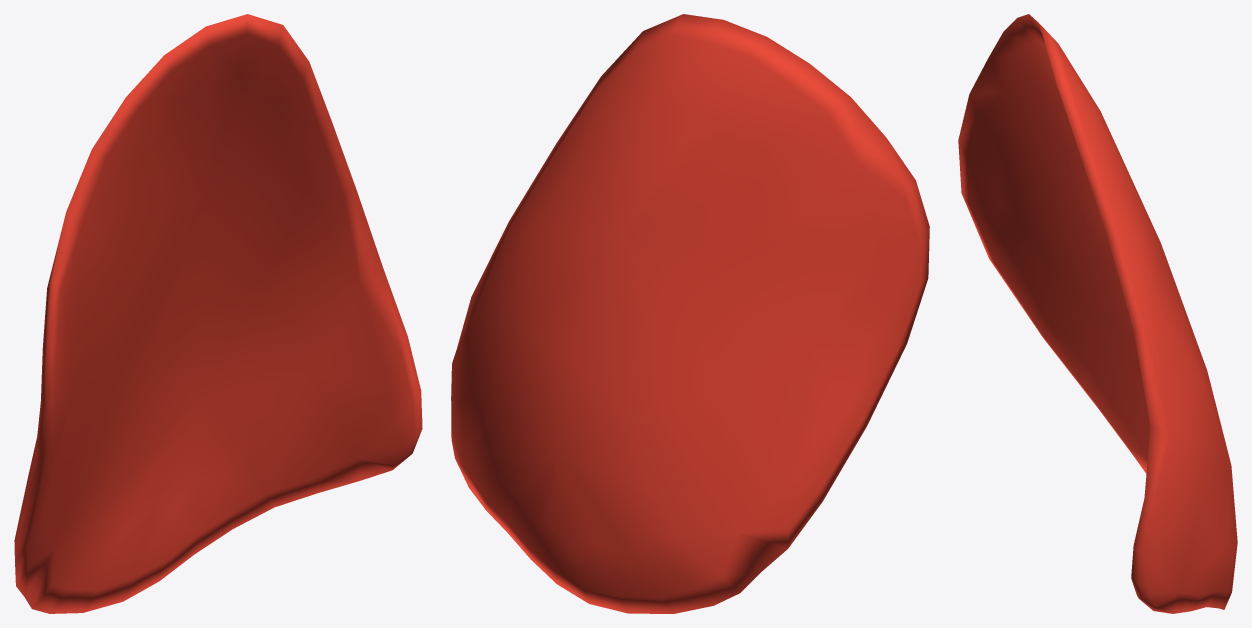
File: Inferior_gemellus_muscle-Ischiatic_insertion.l_Generated_Mesh_F.glb
The picture shows the model from 3 angles, left to right: view 1: azimuth 30°, elevation 25°; view 2: azimuth 150°, elevation 25°; view 3: azimuth 270°, elevation 25°; orthographic projection. The views are drawn at different scales.
Visible parts, largest first — view 1: Inferior_gemellus_muscle-Ischiatic_insertion.l_Generated_Mes; view 2: Inferior_gemellus_muscle-Ischiatic_insertion.l_Generated_Mes; view 3: Inferior_gemellus_muscle-Ischiatic_insertion.l_Generated_Mes.
Part boxes in pixels (box(x1,y1,x2,y2)): Inferior_gemellus_muscle-Ischiatic_insertion.l_Generated_Mes: box(14, 14, 422, 613); Inferior_gemellus_muscle-Ischiatic_insertion.l_Generated_Mes: box(451, 14, 929, 613); Inferior_gemellus_muscle-Ischiatic_insertion.l_Generated_Mes: box(958, 14, 1237, 613).
Size of the model in its own units: 0.0129 by 0.0169 by 0.00756.
